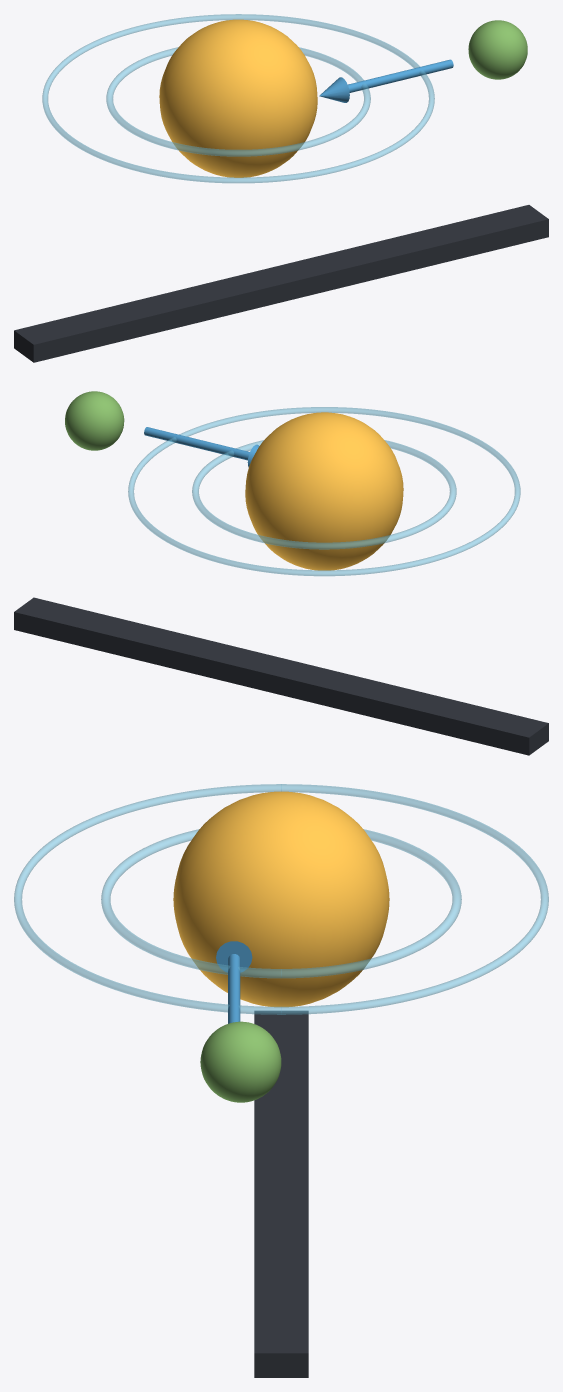
Rendered from space-gravity-force.glb.
3 renders of one model, top to bottom at view 1: azimuth 30°, elevation 25°; view 2: azimuth 150°, elevation 25°; view 3: azimuth 270°, elevation 25°, orthographic. The views are drawn at different scales.
Visible parts, largest first — view 1: gravity-orbit-bench, mass-source-central-body, field-pattern-outer-ring, field-pattern-inner-ring, distance-gap-test-mass, gravity-pull-inward-shaft, gravity-pull-inward-head; view 2: gravity-orbit-bench, mass-source-central-body, field-pattern-outer-ring, field-pattern-inner-ring, distance-gap-test-mass, gravity-pull-inward-shaft; view 3: mass-source-central-body, gravity-orbit-bench, field-pattern-outer-ring, field-pattern-inner-ring, distance-gap-test-mass, gravity-pull-inward-shaft, gravity-pull-inward-head.
Part boxes in pixels (x1,y1,x2,y2): gravity-orbit-bench: (14, 205, 548, 362); mass-source-central-body: (159, 19, 317, 177); field-pattern-outer-ring: (42, 14, 434, 183); field-pattern-inner-ring: (106, 47, 370, 156); distance-gap-test-mass: (468, 20, 527, 79); gravity-pull-inward-shaft: (348, 59, 453, 92); gravity-pull-inward-head: (319, 77, 349, 102); gravity-orbit-bench: (14, 597, 548, 755); mass-source-central-body: (245, 412, 403, 570); field-pattern-outer-ring: (128, 407, 520, 576); field-pattern-inner-ring: (192, 440, 456, 549); distance-gap-test-mass: (65, 391, 124, 450); gravity-pull-inward-shaft: (144, 427, 249, 460); mass-source-central-body: (173, 791, 389, 1006); gravity-orbit-bench: (254, 1011, 308, 1377); field-pattern-outer-ring: (14, 784, 548, 1014); field-pattern-inner-ring: (101, 829, 461, 978); distance-gap-test-mass: (200, 1021, 281, 1102); gravity-pull-inward-shaft: (228, 954, 240, 1023); gravity-pull-inward-head: (216, 941, 252, 972).
Size of what is drawn, in the model's own units: 2.4 by 1.23 by 1.58.
